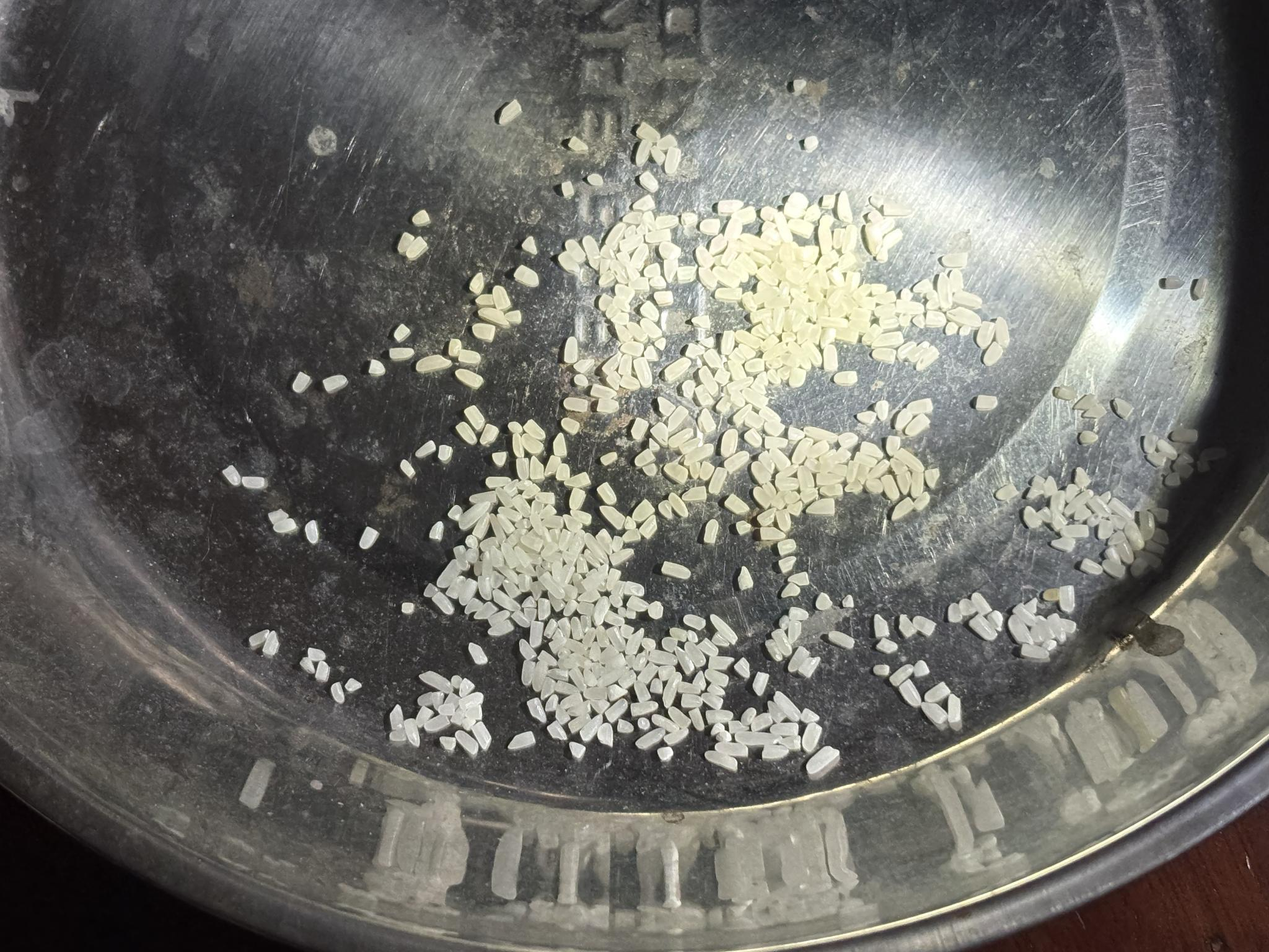Rice-th-y-nh: (457, 500, 492, 531), (804, 745, 840, 775), (709, 613, 739, 645), (419, 669, 454, 695), (774, 690, 802, 722), (1008, 614, 1035, 646), (833, 191, 858, 225), (583, 533, 609, 565), (1121, 519, 1147, 551), (894, 447, 925, 473), (581, 234, 603, 270), (478, 305, 511, 329), (598, 503, 626, 531), (663, 356, 692, 383), (538, 571, 565, 600), (968, 615, 997, 642), (704, 749, 738, 772), (818, 446, 852, 469), (491, 587, 521, 613), (1064, 489, 1095, 514), (512, 546, 537, 577), (973, 319, 998, 350), (682, 442, 714, 466), (717, 427, 741, 459), (436, 558, 461, 588), (635, 726, 665, 751), (579, 713, 603, 744), (740, 387, 770, 411), (706, 465, 730, 495), (697, 366, 720, 397), (1135, 510, 1158, 541), (992, 316, 1014, 348), (529, 660, 551, 692), (454, 729, 480, 756), (723, 449, 750, 475), (683, 641, 708, 669), (712, 265, 741, 289), (471, 721, 494, 751), (772, 212, 794, 243), (715, 739, 749, 759), (604, 698, 630, 724), (631, 497, 656, 524), (904, 412, 931, 437), (920, 701, 948, 725), (878, 473, 902, 501), (604, 221, 627, 250), (651, 712, 681, 734), (454, 368, 484, 390), (557, 251, 583, 276), (1108, 497, 1135, 521), (787, 646, 811, 673), (666, 491, 689, 519), (665, 405, 688, 433), (529, 517, 552, 545), (662, 461, 690, 484), (900, 679, 923, 707), (525, 619, 547, 648), (1046, 614, 1067, 644), (891, 497, 916, 522), (982, 341, 1005, 368), (800, 340, 823, 367), (771, 628, 793, 656), (491, 284, 513, 312), (624, 627, 645, 656), (634, 138, 655, 167), (648, 647, 677, 668), (667, 705, 692, 729), (889, 663, 914, 687), (500, 542, 520, 572), (523, 417, 547, 442), (734, 252, 759, 276), (668, 426, 694, 449), (696, 266, 719, 292), (749, 460, 772, 486), (636, 122, 662, 145), (605, 626, 627, 653), (457, 579, 479, 606), (526, 697, 548, 724), (924, 681, 951, 703), (629, 243, 650, 271), (526, 455, 547, 483), (895, 297, 924, 317), (454, 421, 478, 445), (768, 446, 791, 471), (1012, 604, 1037, 627), (912, 614, 937, 637), (611, 320, 634, 345), (564, 238, 586, 264), (708, 231, 730, 257), (724, 493, 750, 515), (629, 415, 651, 441), (858, 439, 884, 461), (629, 699, 659, 718), (471, 513, 492, 540), (608, 258, 629, 285), (828, 629, 855, 650), (816, 314, 849, 331), (758, 524, 786, 544), (451, 544, 471, 572), (563, 395, 591, 415), (640, 317, 663, 341), (1087, 496, 1111, 519), (431, 592, 455, 615), (815, 249, 839, 272), (1020, 642, 1049, 661), (769, 306, 788, 335), (834, 324, 859, 346), (696, 408, 718, 433), (638, 515, 660, 540), (693, 245, 715, 270), (609, 547, 635, 568), (693, 383, 714, 409), (678, 435, 704, 456), (595, 721, 616, 747), (1060, 522, 1090, 540), (424, 713, 451, 733), (675, 648, 695, 675), (735, 330, 762, 350), (727, 375, 755, 394), (590, 382, 618, 401), (487, 619, 515, 638), (908, 469, 927, 497), (405, 236, 428, 259), (650, 421, 672, 445), (798, 656, 822, 678), (445, 575, 467, 599), (620, 338, 645, 359), (511, 494, 532, 519), (704, 667, 729, 688), (770, 720, 799, 738), (714, 285, 743, 303), (663, 727, 689, 747), (475, 574, 494, 601), (637, 662, 659, 685), (971, 593, 993, 616), (639, 299, 661, 322), (626, 321, 649, 343), (861, 323, 883, 346), (568, 712, 591, 734), (750, 712, 774, 733), (1102, 558, 1126, 579), (468, 642, 489, 666), (867, 459, 891, 480), (757, 451, 778, 475), (805, 438, 829, 459), (479, 422, 500, 446), (626, 593, 650, 614), (568, 668, 588, 693), (894, 469, 914, 494), (751, 671, 771, 696), (872, 614, 892, 639), (736, 566, 756, 591), (619, 233, 644, 253), (603, 567, 622, 593), (718, 330, 737, 356), (995, 483, 1021, 502), (417, 690, 444, 708), (702, 348, 724, 370), (1113, 397, 1135, 419), (655, 396, 677, 418), (562, 513, 584, 535), (1156, 439, 1179, 460), (732, 403, 753, 426), (676, 262, 697, 285), (756, 506, 779, 527), (756, 266, 779, 287), (638, 170, 659, 193), (521, 533, 545, 553), (752, 486, 772, 510), (898, 614, 918, 638), (1082, 402, 1107, 421), (1051, 535, 1076, 554), (796, 320, 815, 345), (751, 371, 770, 396), (497, 505, 523, 523), (726, 359, 747, 381), (617, 668, 638, 690), (494, 487, 515, 509), (701, 691, 724, 711), (613, 283, 636, 303), (894, 408, 914, 431), (764, 639, 784, 662), (292, 371, 312, 394), (765, 295, 792, 312), (633, 679, 652, 703), (1073, 393, 1097, 412), (474, 601, 498, 620), (774, 508, 793, 532), (655, 212, 679, 231), (567, 700, 591, 719), (758, 405, 782, 424), (688, 707, 706, 732), (547, 720, 568, 741), (496, 513, 516, 535), (697, 638, 719, 658), (788, 367, 808, 389), (518, 639, 538, 661), (803, 202, 823, 224), (570, 507, 593, 526), (588, 697, 611, 716), (923, 466, 942, 489), (853, 450, 876, 469), (560, 691, 584, 709), (487, 608, 511, 626), (683, 613, 707, 631), (535, 597, 552, 622), (827, 267, 847, 288), (743, 427, 763, 448), (222, 465, 242, 486), (415, 440, 437, 459), (619, 373, 641, 392), (248, 629, 270, 648), (573, 357, 595, 376), (733, 657, 752, 679), (763, 419, 786, 437), (631, 650, 649, 673), (603, 610, 626, 628), (542, 513, 565, 531), (415, 705, 433, 728), (912, 277, 935, 295), (469, 272, 486, 296), (777, 555, 797, 575), (896, 340, 917, 359), (1073, 467, 1091, 489), (744, 412, 766, 430), (605, 369, 623, 391), (698, 460, 716, 482), (653, 289, 675, 307), (622, 209, 644, 227), (740, 291, 758, 313), (1096, 518, 1114, 540), (556, 528, 573, 551), (776, 463, 799, 480), (1080, 558, 1103, 575), (787, 571, 810, 588), (885, 435, 902, 458), (1042, 475, 1059, 498), (557, 616, 573, 640), (502, 579, 521, 599), (583, 549, 602, 569), (837, 252, 857, 271), (568, 740, 587, 760), (814, 592, 834, 611), (780, 581, 801, 599), (691, 313, 712, 331), (621, 527, 642, 545), (479, 535, 500, 553), (554, 704, 571, 726), (547, 666, 569, 683), (534, 490, 557, 506), (819, 191, 838, 210), (597, 269, 616, 288), (649, 145, 667, 165), (787, 498, 805, 518), (538, 650, 558, 668), (511, 610, 531, 628), (554, 463, 572, 483), (657, 664, 677, 682), (846, 271, 863, 292), (745, 357, 766, 374), (876, 638, 898, 654), (574, 553, 590, 575), (713, 367, 731, 386), (669, 625, 688, 643), (1073, 504, 1092, 522), (490, 450, 509, 468), (399, 459, 416, 479), (562, 599, 579, 619), (786, 425, 806, 442), (788, 606, 809, 622), (582, 626, 598, 647), (610, 311, 631, 327), (691, 670, 707, 691), (543, 618, 559, 639), (606, 591, 625, 608), (538, 504, 558, 520), (681, 379, 697, 399), (800, 708, 820, 724), (1079, 430, 1099, 446), (879, 316, 900, 331), (330, 682, 345, 703), (315, 660, 330, 681), (648, 677, 665, 695), (729, 390, 746, 408), (1036, 506, 1054, 523), (437, 702, 456, 718), (697, 334, 716, 350), (560, 180, 576, 199), (582, 669, 598, 688), (706, 683, 726, 698), (439, 735, 457, 751), (307, 647, 326, 662), (766, 368, 782, 385), (641, 637, 657, 654), (300, 657, 316, 674), (844, 480, 863, 494), (345, 678, 362, 692), (587, 173, 604, 187), (473, 560, 484, 576)
